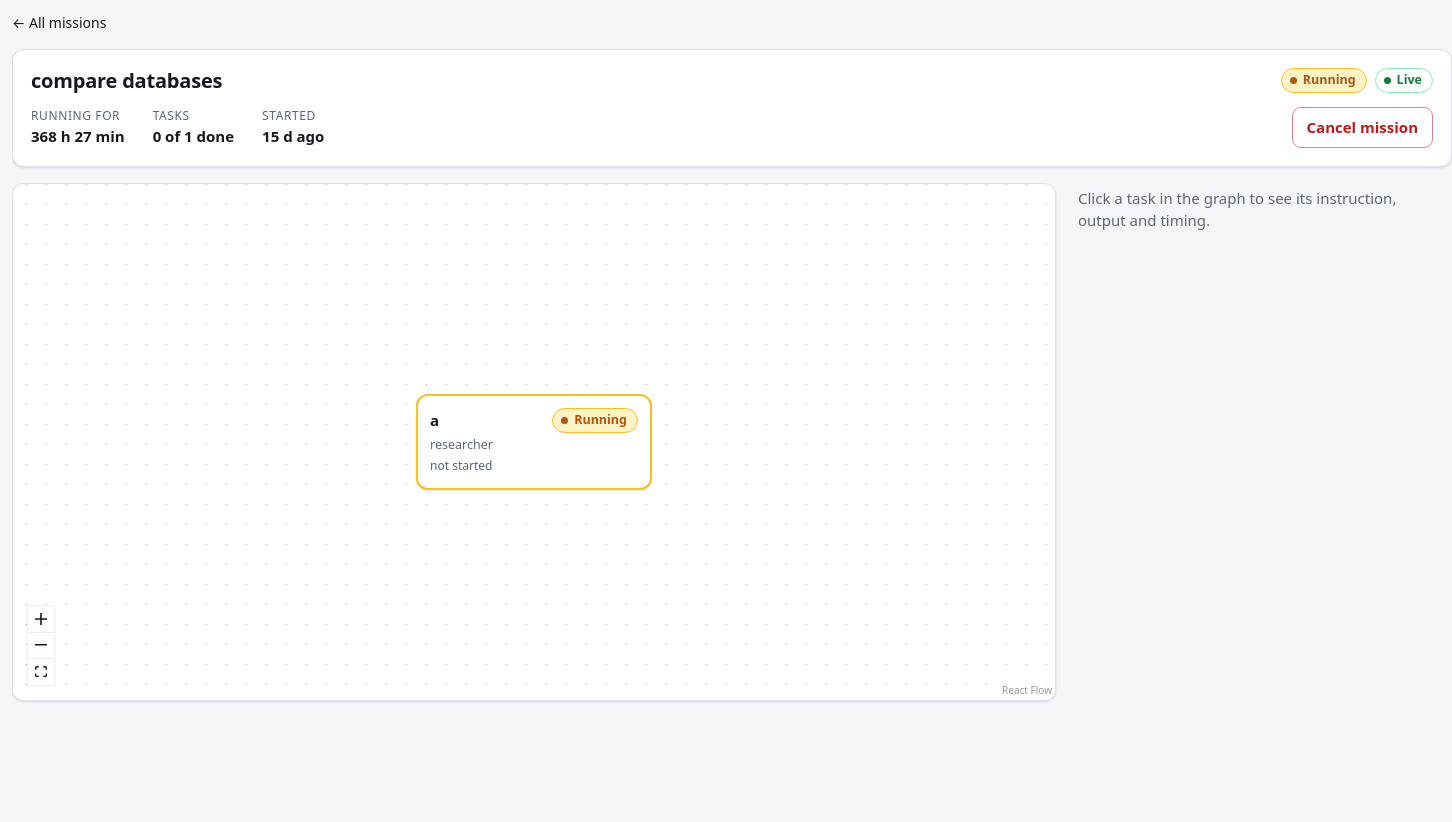
it: MissionView: cancelling › explains that a mission which had just finished cannot be cancelled
Click the button "Cancel mission" at (1362,127), box [1292,107,1433,148]
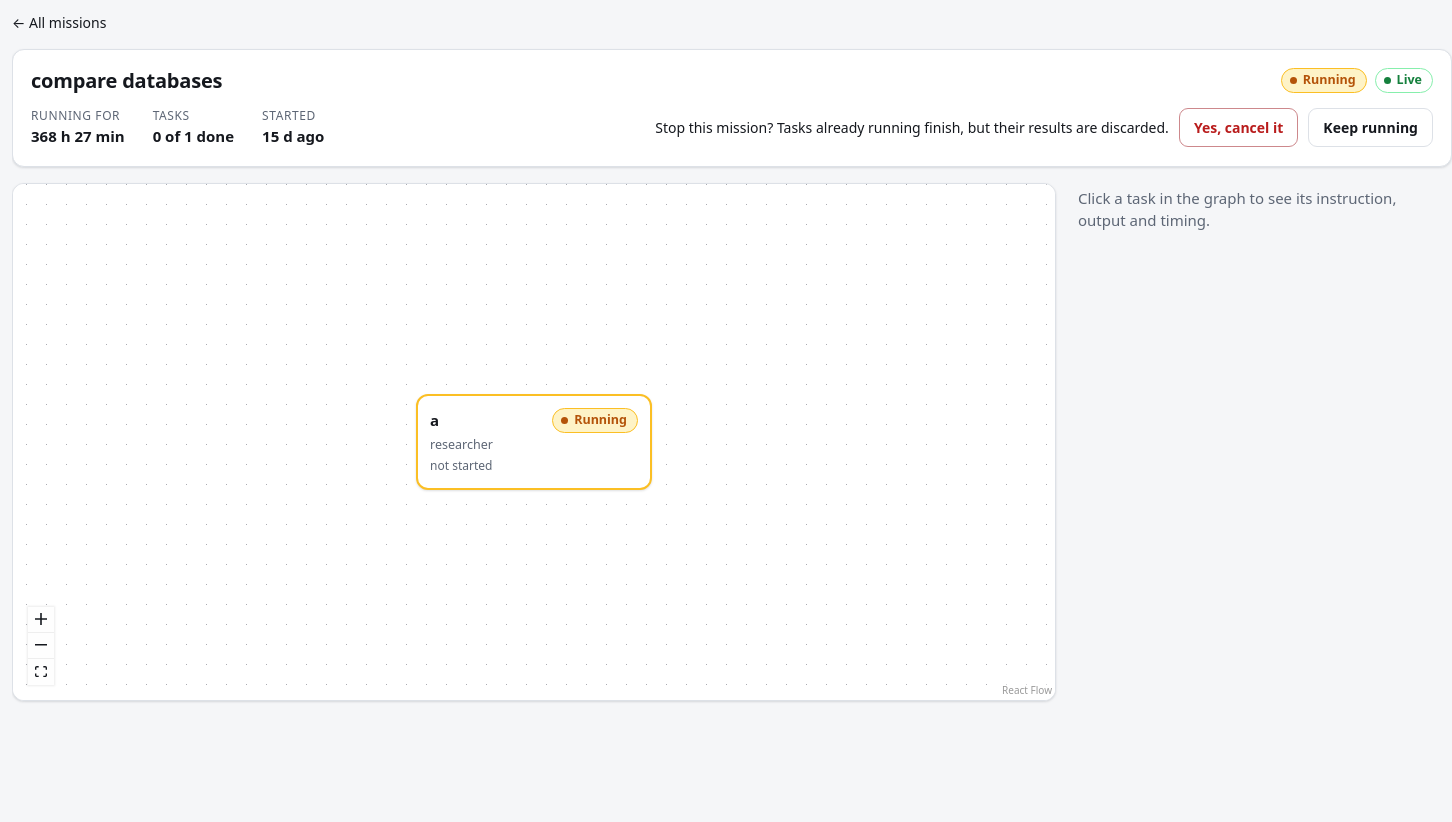
Click the button "Yes, cancel it" at (1239,127), box [1179,108,1298,147]
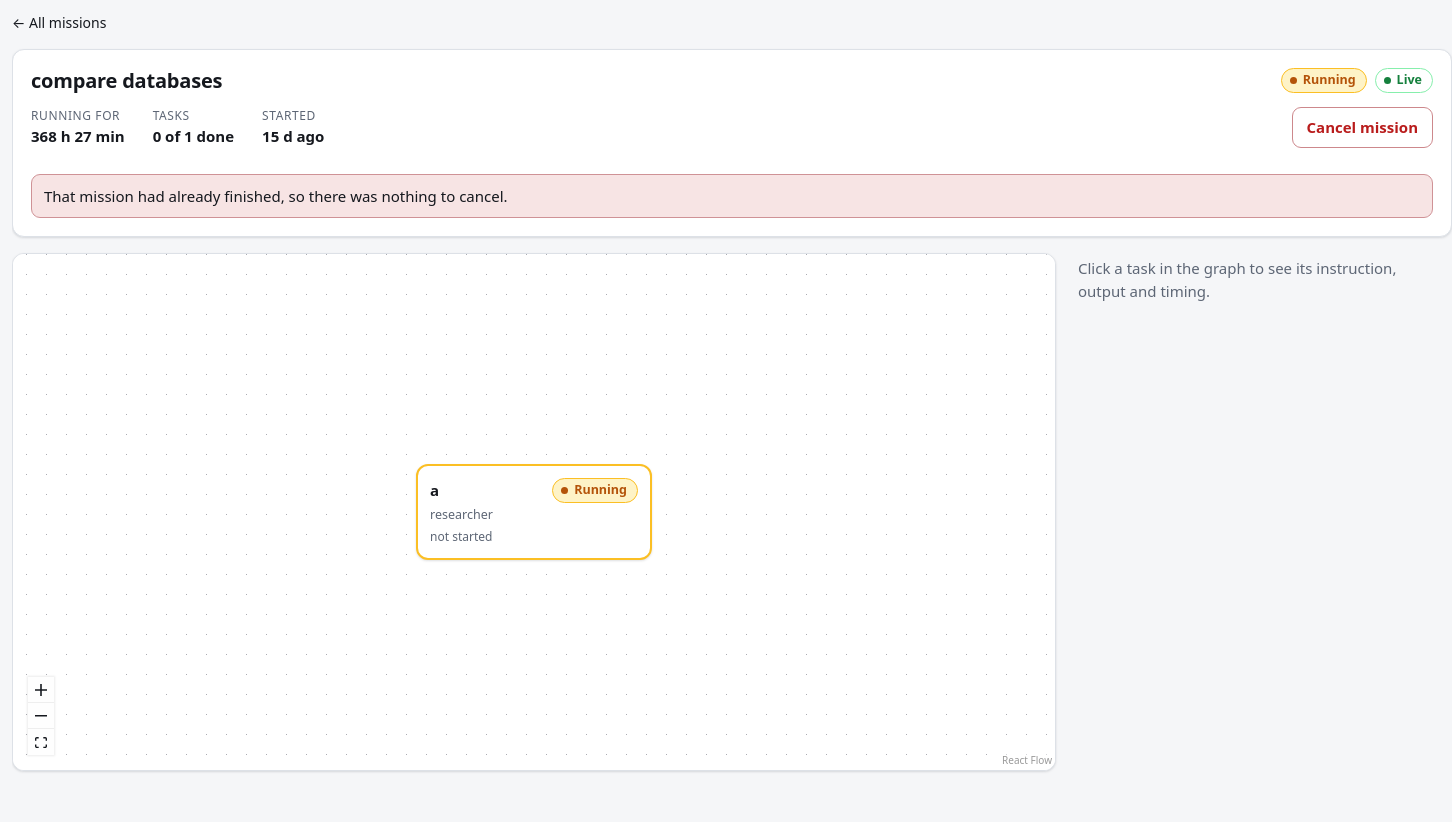
Now the message "That mission had already finished, so there was nothing to cancel." is shown, box [31,174,1433,218]
